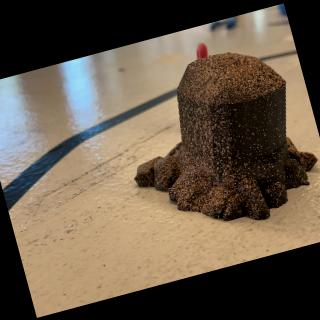teletubby: (196, 43, 207, 58)
